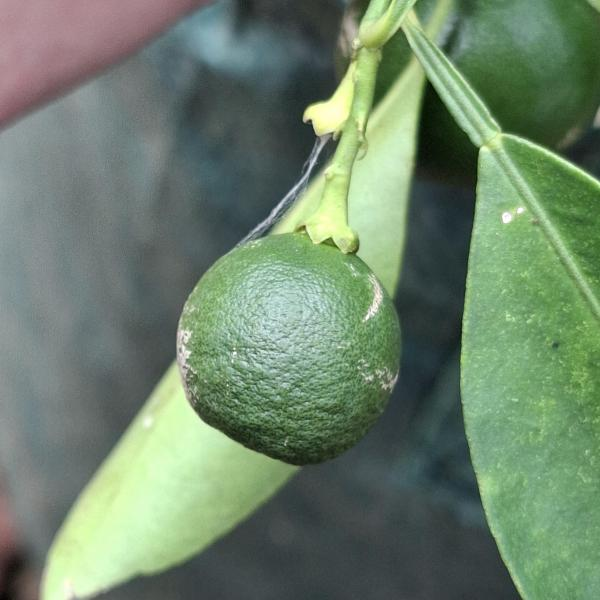Scab: (156, 213, 418, 484)
